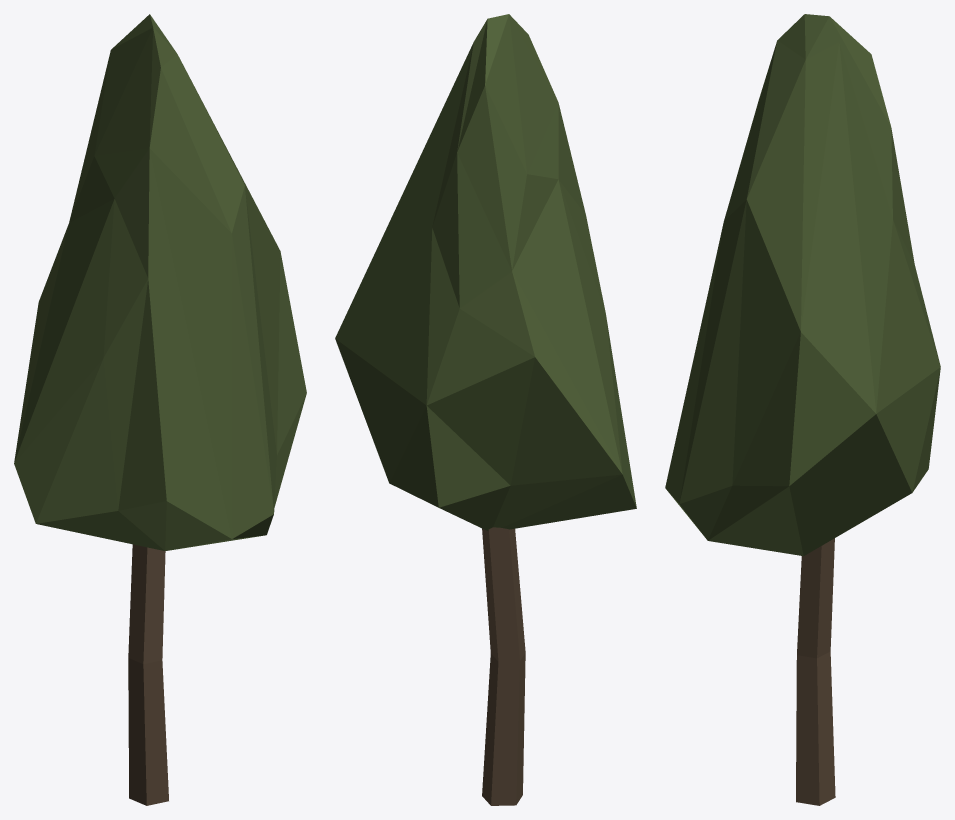
File: Tree_055.fbx
3 views of the same model, side by side, from view 1: azimuth 30°, elevation 25°; view 2: azimuth 150°, elevation 25°; view 3: azimuth 270°, elevation 25° (orthographic).
Parts seen in each view (by area): view 1: Tree_055; view 2: Tree_055; view 3: Tree_055.
Boxes of the visible parts, left/top/right/bottom form: Tree_055: left=14, top=14, right=306, bottom=805; Tree_055: left=335, top=14, right=636, bottom=805; Tree_055: left=665, top=14, right=940, bottom=805.
Bounding box in the file's own units: 0.5732 × 1.56 × 0.4975.
Materials: 1 (1 with a texture image).
